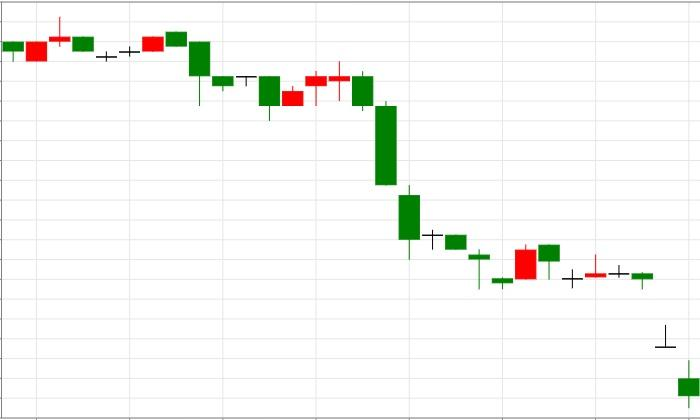three_black_crows_fall: (282, 60, 421, 260)
